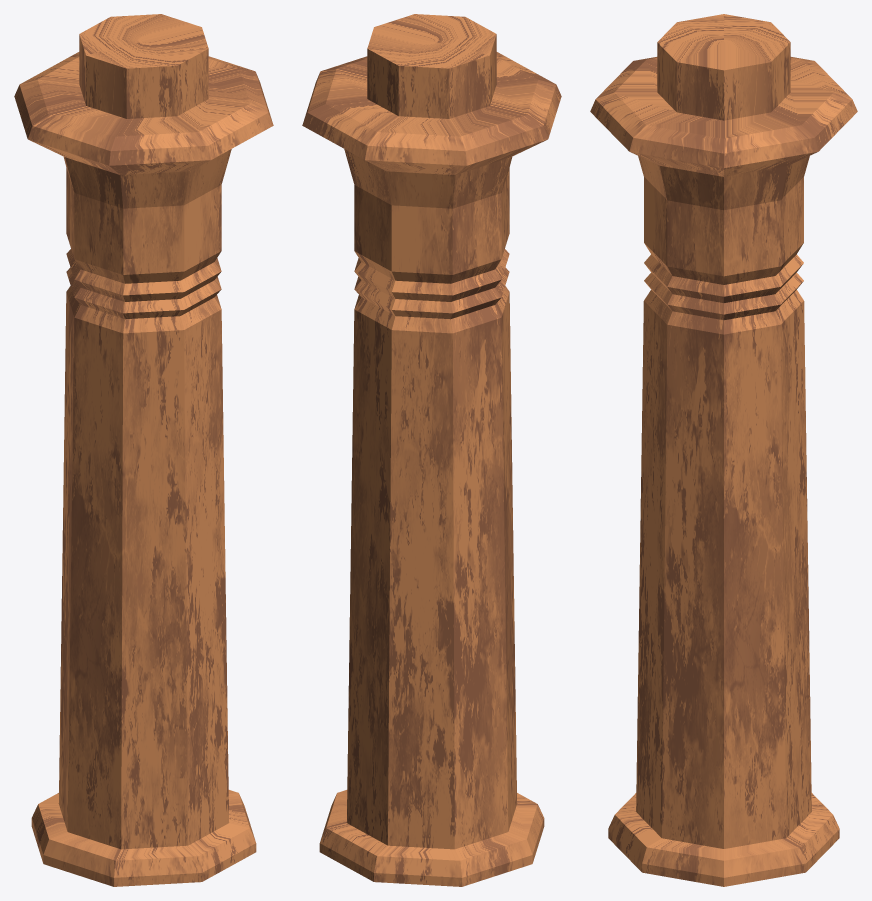
The model's file is column05.fbx.
3 renders of one model, left to right at view 1: azimuth 30°, elevation 25°; view 2: azimuth 150°, elevation 25°; view 3: azimuth 270°, elevation 25°, orthographic.
Visible parts, largest first — view 1: pCylinder4; view 2: pCylinder4; view 3: pCylinder4.
Part boxes in pixels (x1,y1,x2,y2): pCylinder4: [14, 14, 273, 886]; pCylinder4: [302, 14, 561, 886]; pCylinder4: [590, 14, 857, 886].
Bounding box in the file's own units: 1.65 × 5.4 × 1.65.
